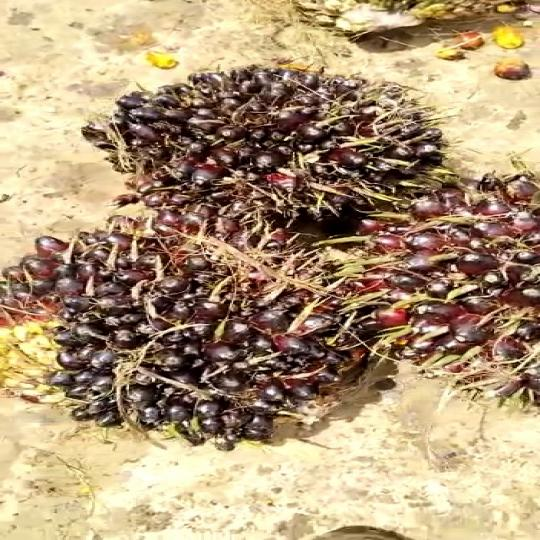mentah: (0, 219, 395, 458), (78, 65, 479, 223), (362, 156, 540, 419)
